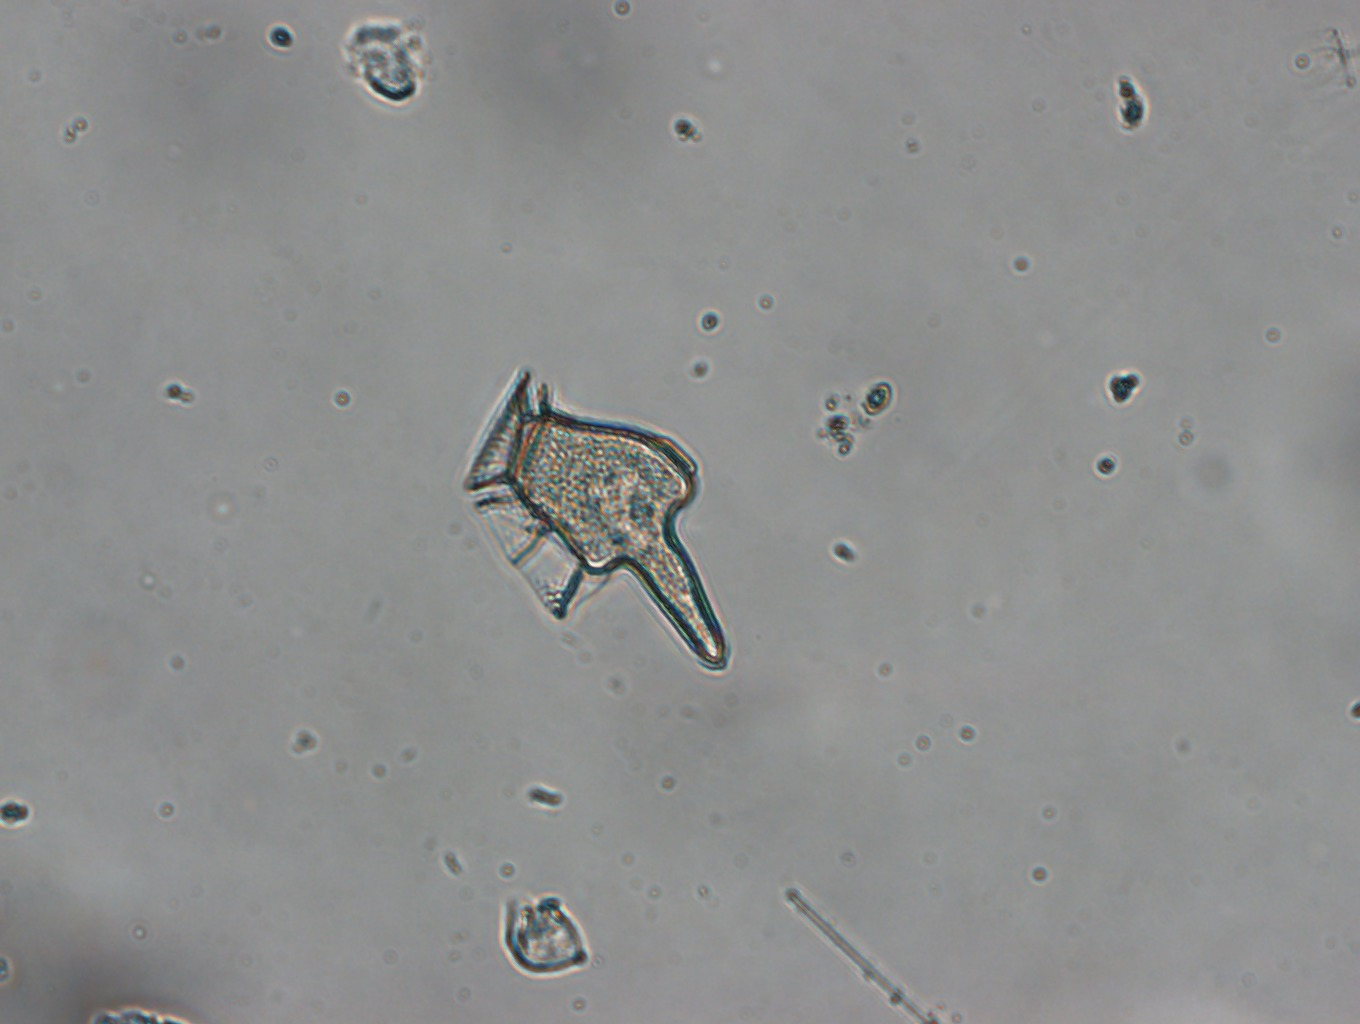dinophysis caudata: (460, 367, 729, 673)
